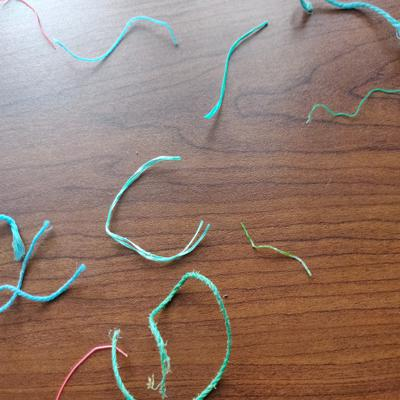thread: (110, 270, 235, 399), (103, 146, 216, 267), (1, 210, 93, 320), (52, 15, 188, 68), (203, 19, 270, 122), (237, 221, 319, 280), (51, 343, 129, 400), (305, 85, 400, 129), (296, 1, 400, 40), (1, 1, 58, 55)
